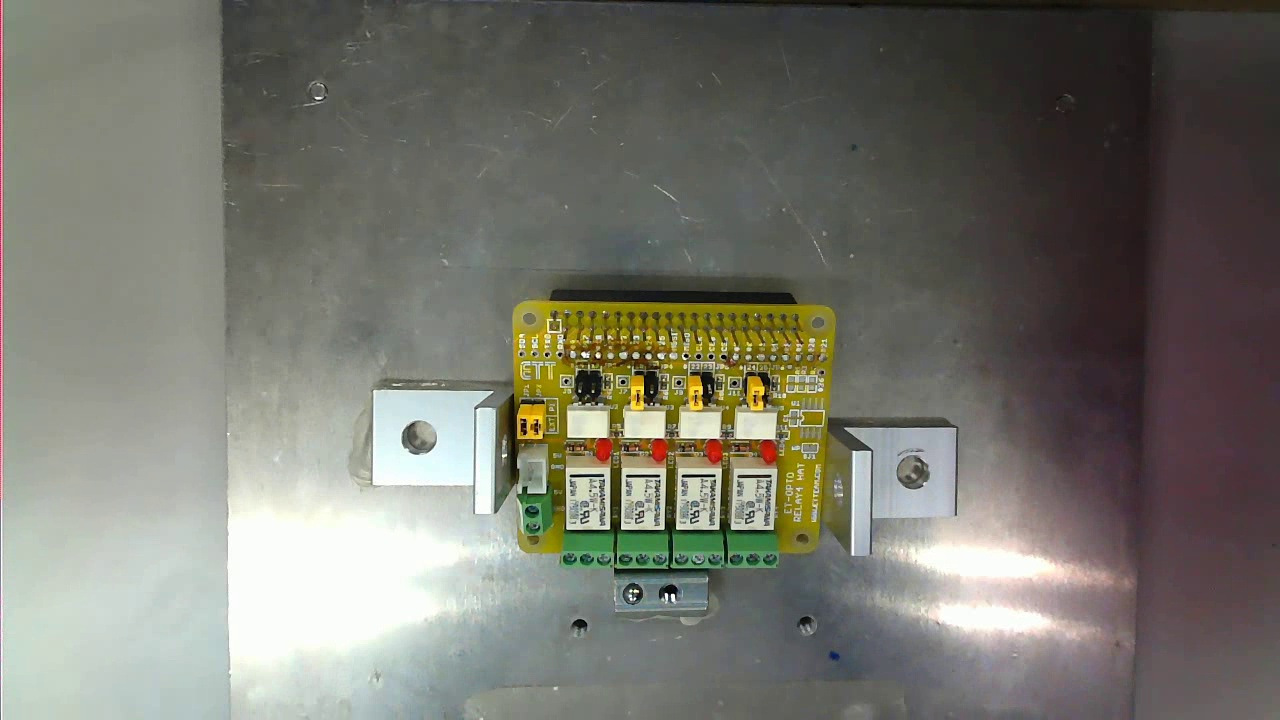can: (493, 297, 841, 575)
